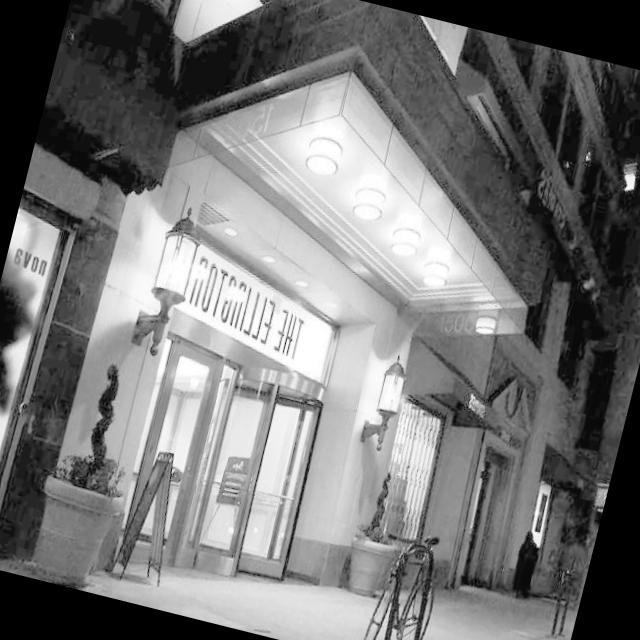Bicycle: (343, 519, 458, 640)
